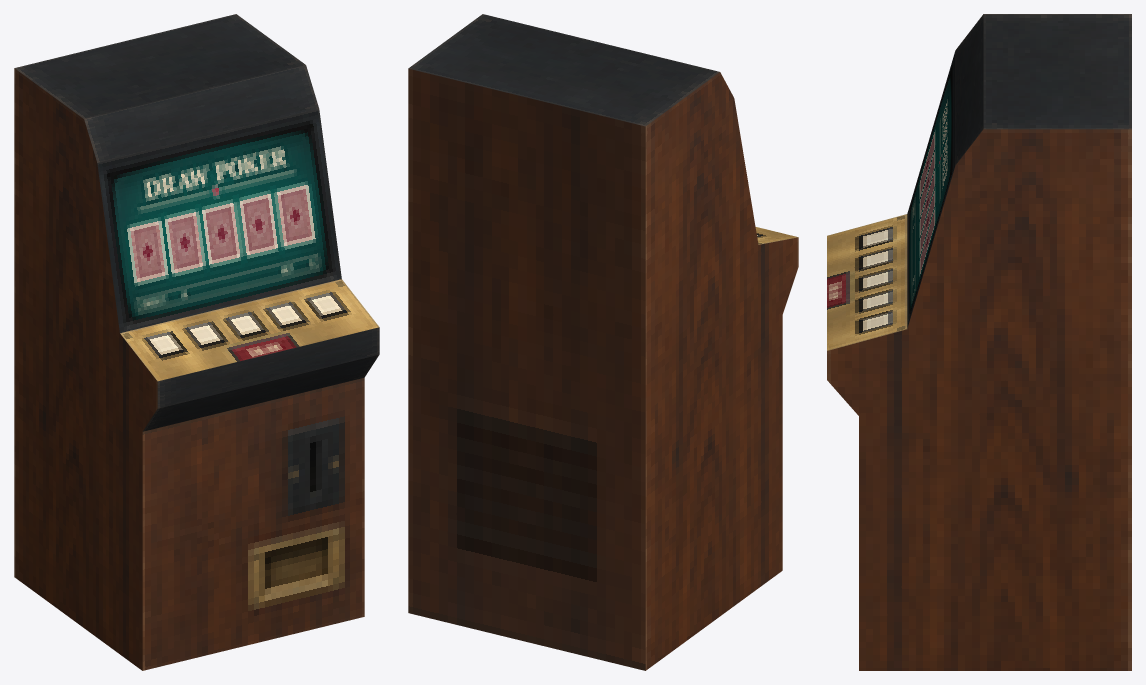
The model's file is draw-poker.glb.
3 views of the same model, side by side, from view 1: azimuth 30°, elevation 25°; view 2: azimuth 150°, elevation 25°; view 3: azimuth 270°, elevation 25° (orthographic). The views are drawn at different scales.
Parts seen in each view (by area): view 1: _MeshInstance3D_2; view 2: _MeshInstance3D_2; view 3: _MeshInstance3D_2.
Part boxes in pixels (x1,y1,x2,y2): _MeshInstance3D_2: (14, 14, 379, 670); _MeshInstance3D_2: (408, 14, 798, 670); _MeshInstance3D_2: (827, 14, 1131, 670).
Size of the model in its own units: 0.68 by 1.49 by 0.76.
Materials: 1 (1 with a texture image).
